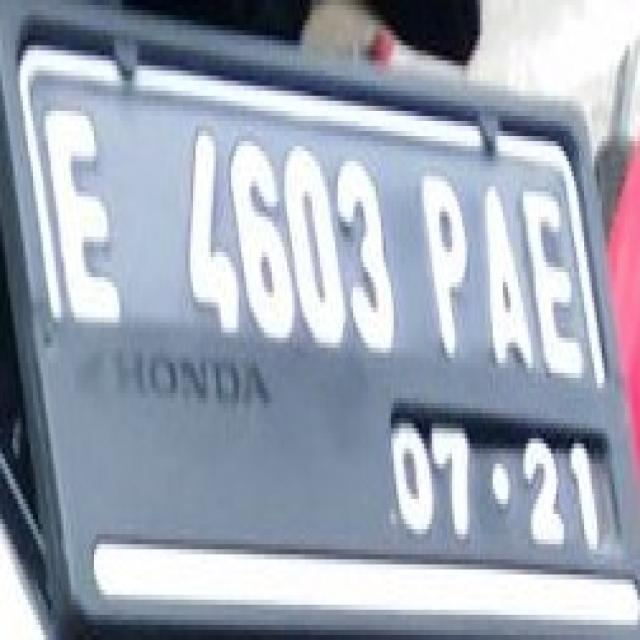plate: (15, 25, 635, 635)
